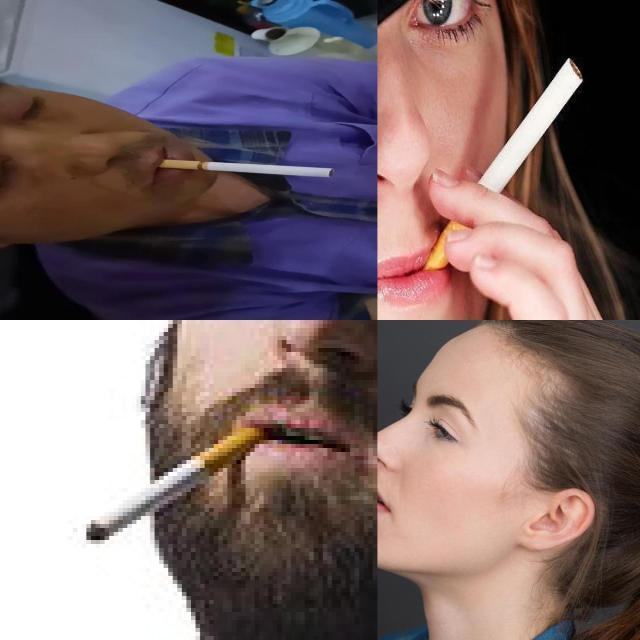smoking: (419, 58, 583, 284), (82, 423, 268, 542), (157, 158, 337, 180)
